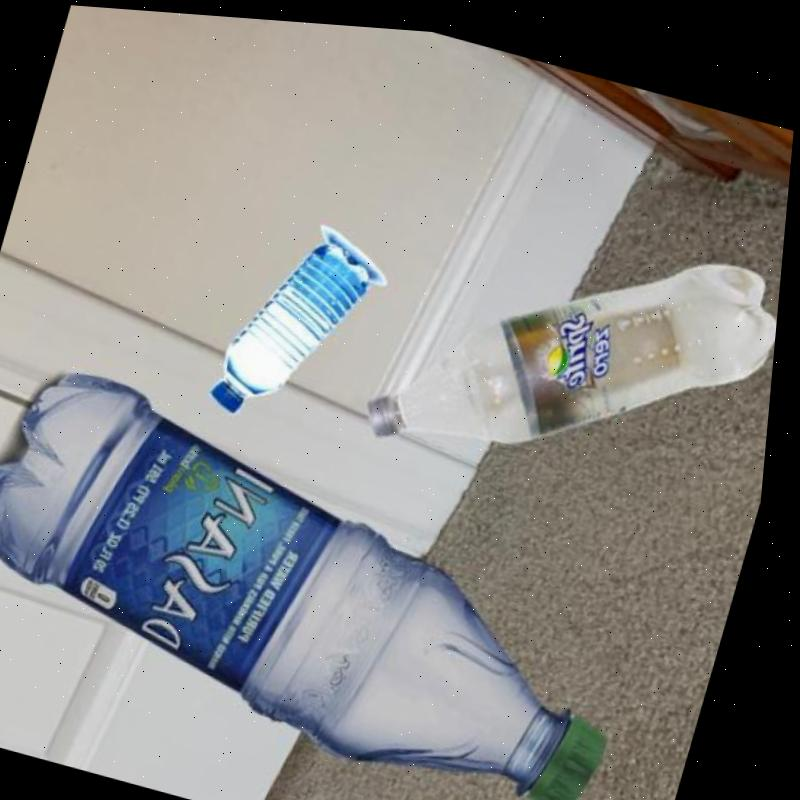botella: (0, 348, 685, 800), (362, 171, 790, 521), (210, 213, 383, 434)
